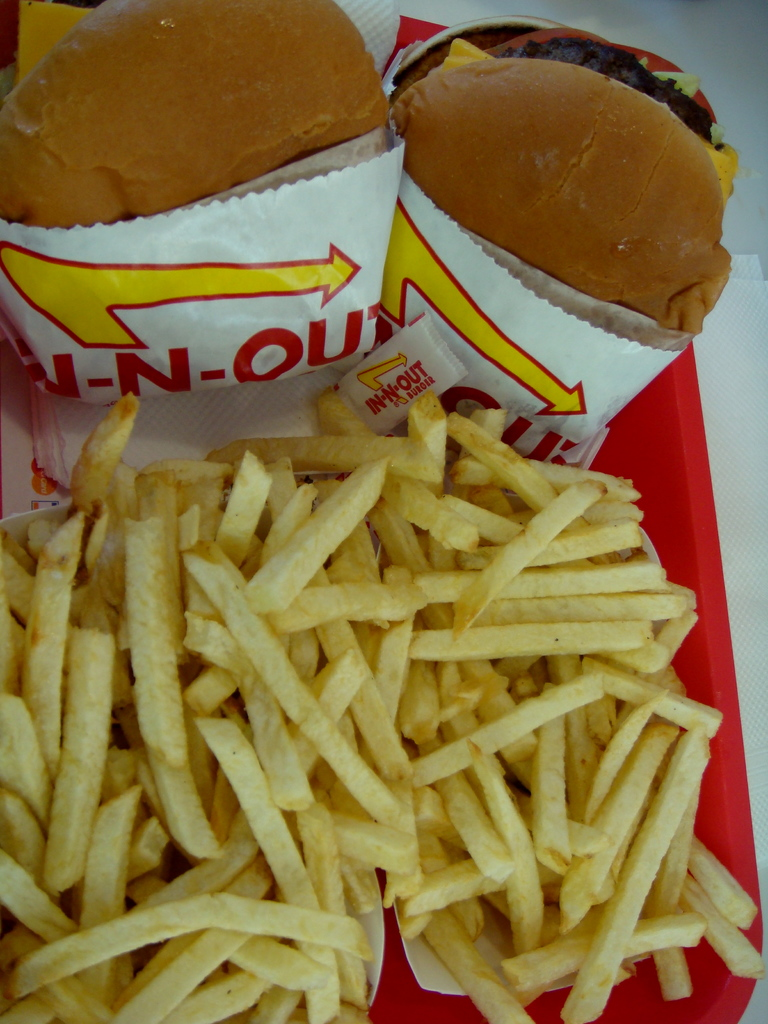French fries: (0, 378, 766, 1023)
